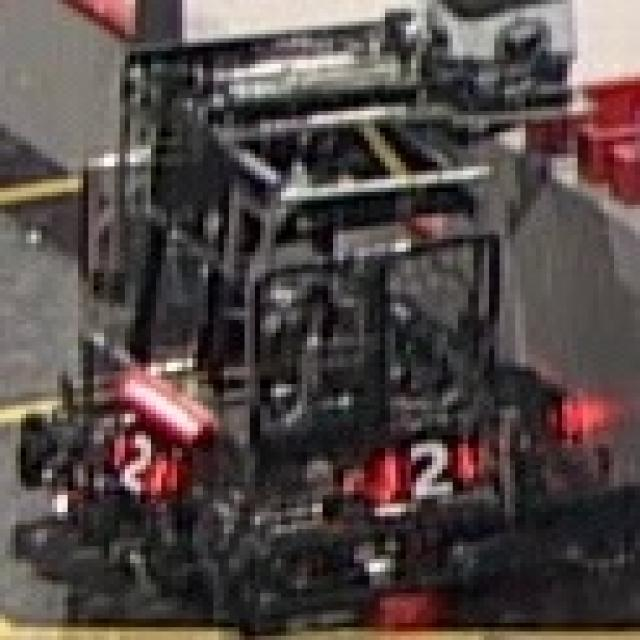R2: (380, 435, 479, 499), (104, 427, 172, 495)
